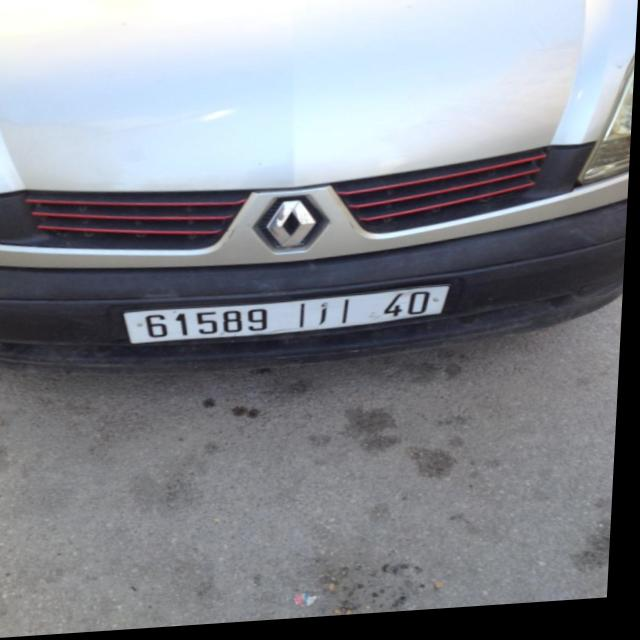License-Plate: (127, 293, 452, 346)
